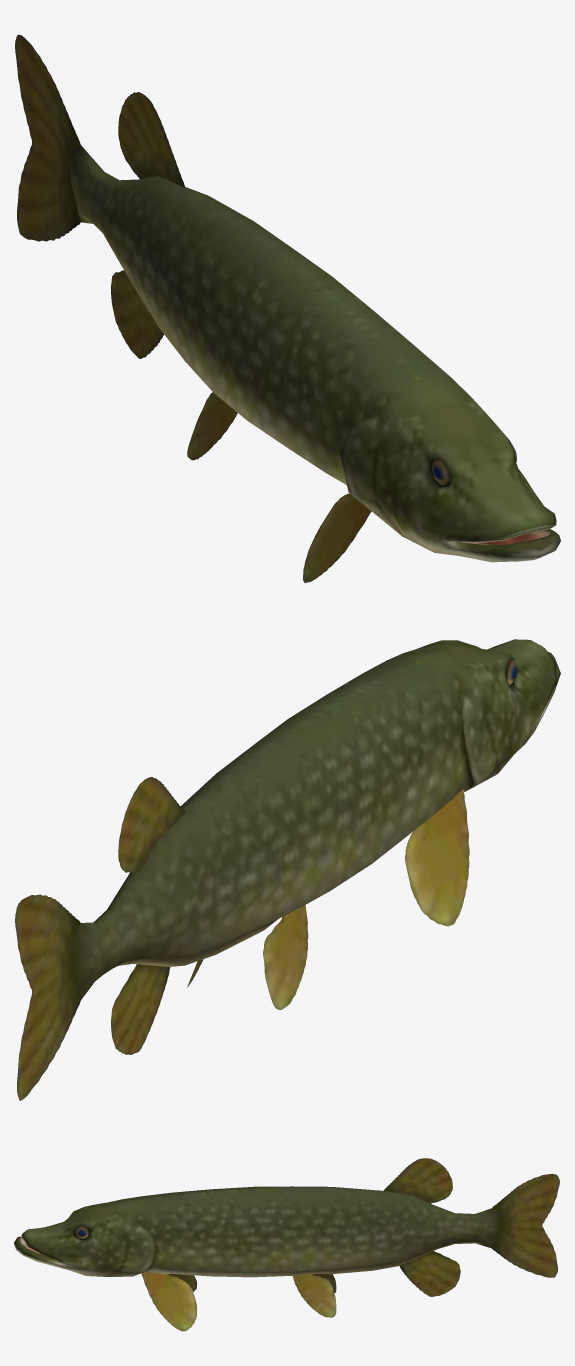
The model's file is pike.glb.
The picture shows the model from 3 angles, top to bottom: view 1: azimuth 30°, elevation 25°; view 2: azimuth 150°, elevation 25°; view 3: azimuth 270°, elevation 25°; orthographic projection. The views are drawn at different scales.
Size of the model in its own units: 2.56 by 4.95 by 13.55.
Materials: 1 (1 with a texture image).
